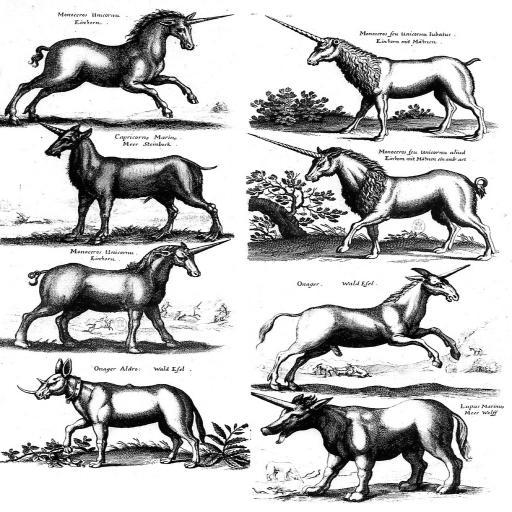Horse: (245, 132, 494, 260), (263, 13, 483, 141), (254, 263, 469, 393), (2, 8, 235, 127), (12, 238, 232, 354), (249, 392, 474, 503), (39, 122, 226, 242), (14, 357, 208, 470)
